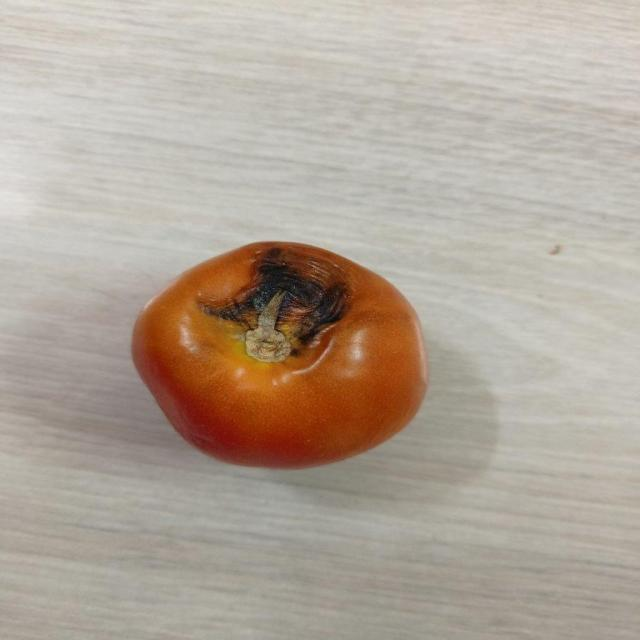Rotten: (136, 241, 427, 470)
